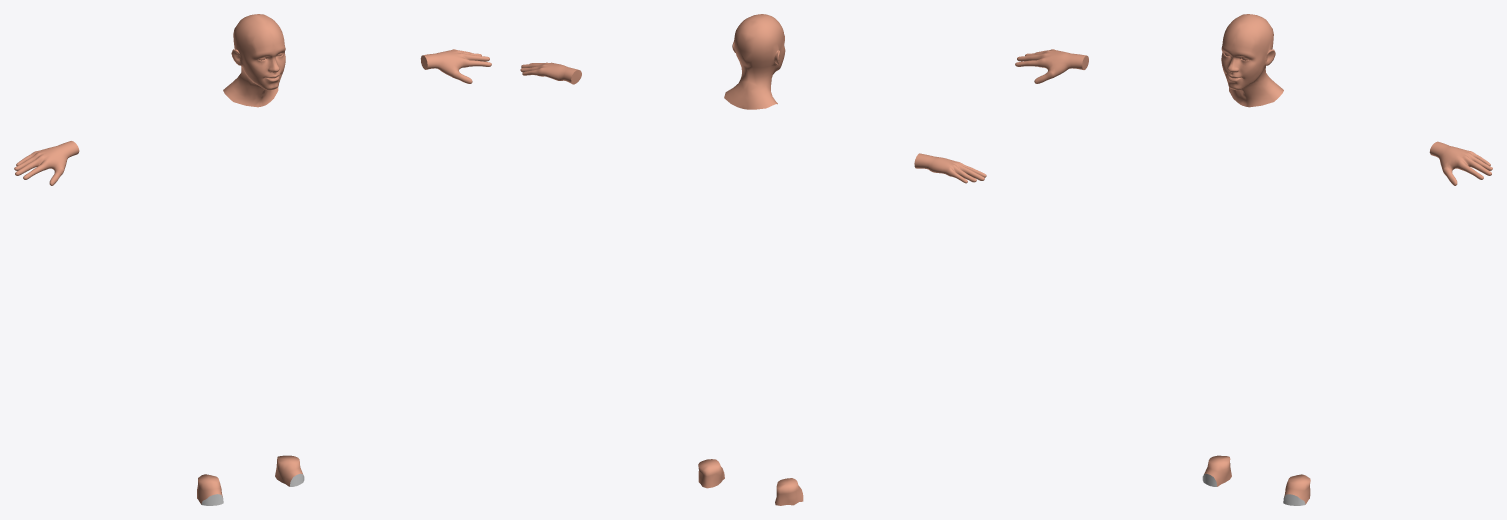
The model's file is skin.fbx.
3 renders of one model, left to right at view 1: azimuth 30°, elevation 25°; view 2: azimuth 150°, elevation 25°; view 3: azimuth 330°, elevation 25°, orthographic. The views are drawn at different scales.
Visible parts, largest first — view 1: Head.002, Body.001; view 2: Head.002, Body.001; view 3: Head.002, Body.001.
Part boxes in pixels (bbox=[...]): Head.002: bbox=[223, 14, 285, 107]; Body.001: bbox=[14, 49, 491, 505]; Head.002: bbox=[724, 14, 785, 109]; Body.001: bbox=[520, 62, 986, 505]; Head.002: bbox=[1221, 14, 1283, 107]; Body.001: bbox=[1015, 49, 1492, 505].
Bounding box in the file's own units: 178 × 172 × 23.9.
